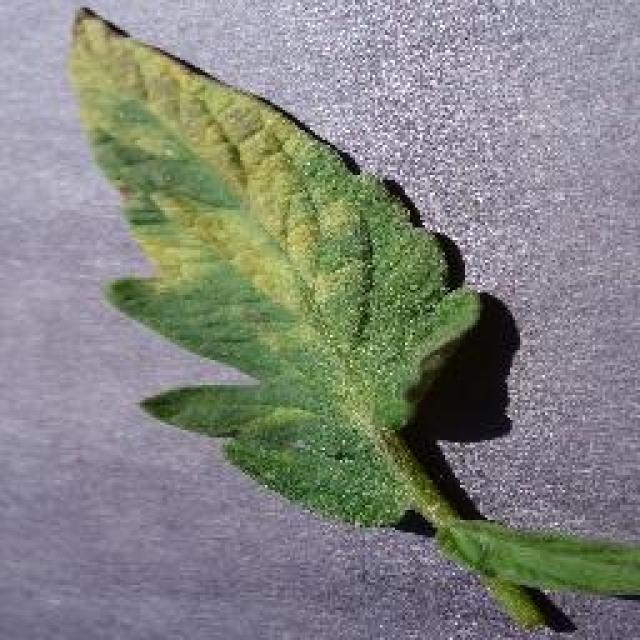Tom_Leaf_Mold: (158, 144, 368, 341), (71, 19, 242, 158)
